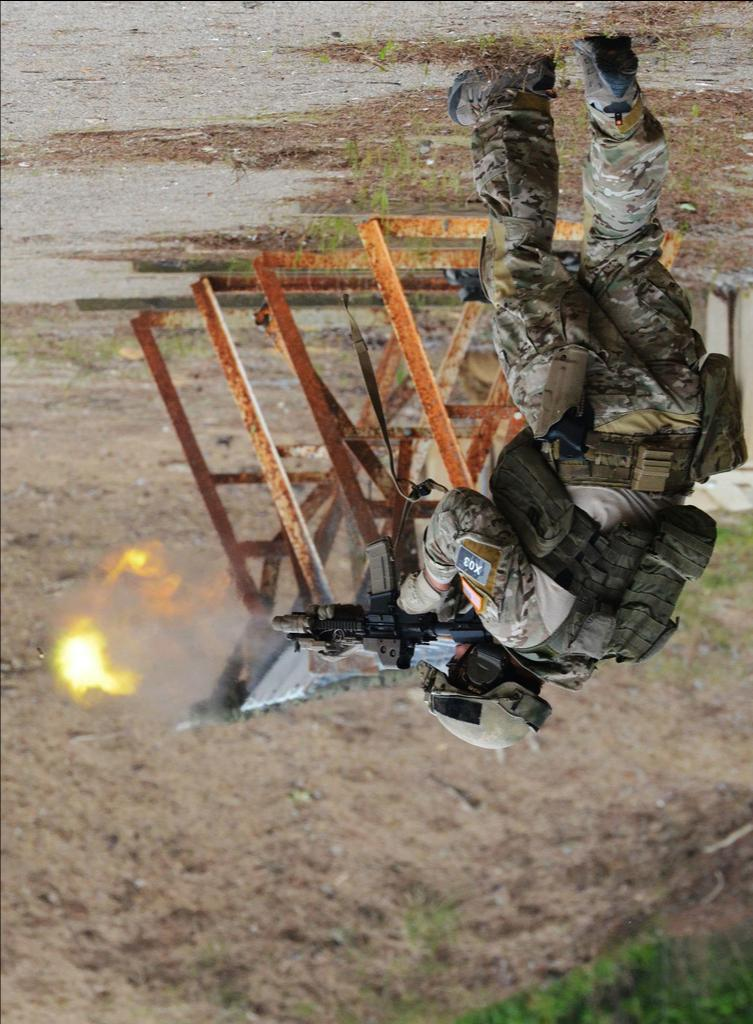gun: (268, 548, 475, 671)
